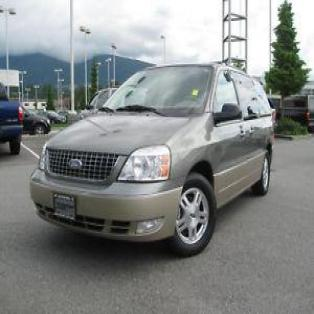Auto: (28, 63, 274, 254)
